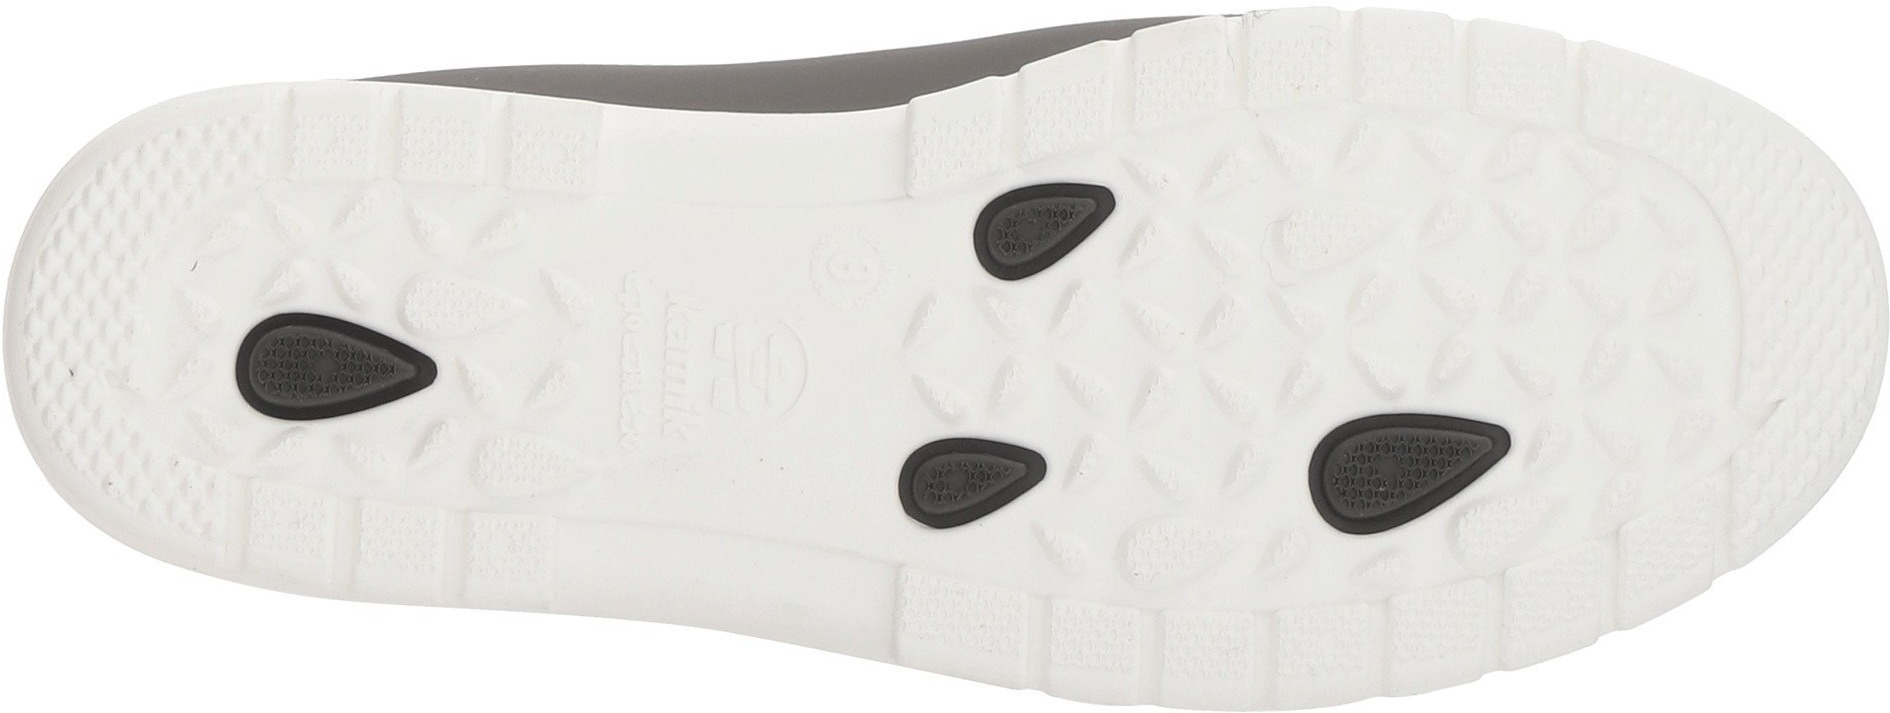other: (42, 222, 153, 332)
quad: (1244, 2, 1591, 178)
text: (592, 297, 762, 446), (822, 236, 890, 313)
